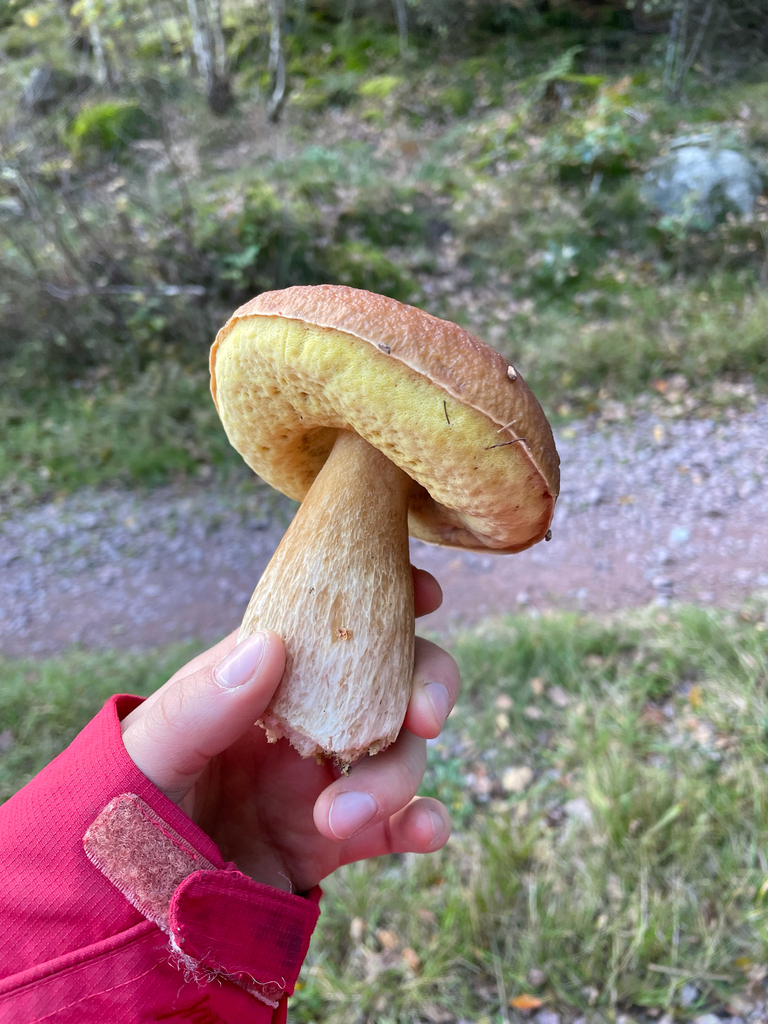Cap: (220, 285, 558, 493)
Stem: (240, 433, 414, 762)
Underside: (211, 317, 553, 549)
